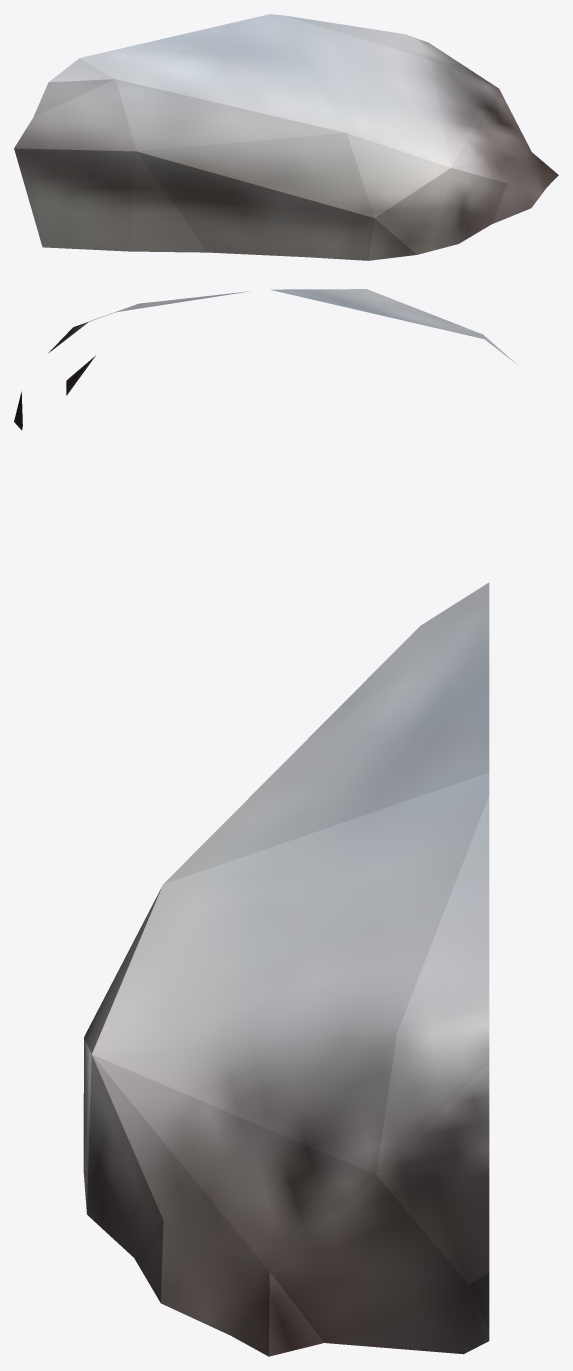
3 renders of one model, top to bottom at view 1: azimuth 30°, elevation 25°; view 2: azimuth 150°, elevation 25°; view 3: azimuth 270°, elevation 25°, orthographic. The views are drawn at different scales.
Size of the model in its own units: 0.4878 by 0.1716 by 0.1748.
Materials: 1 (1 with a texture image).
